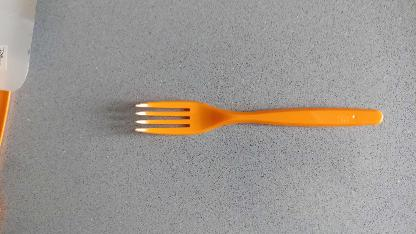Others: (131, 100, 385, 137)
